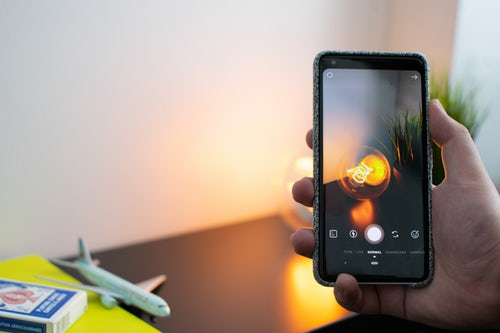phone: (309, 47, 437, 294)
